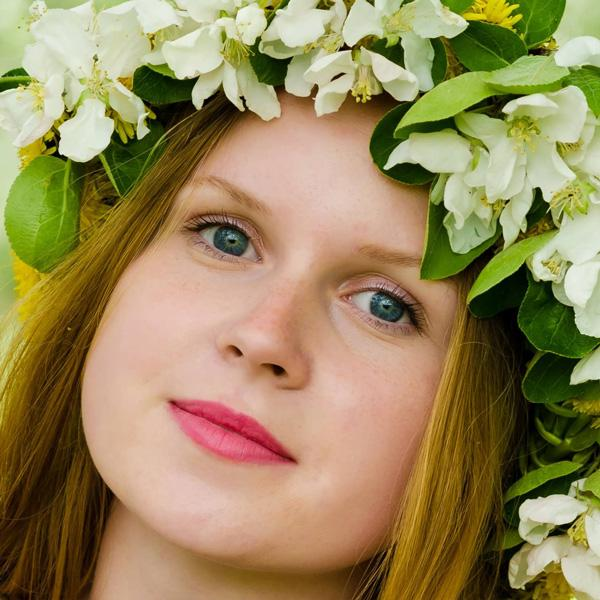Eyes: (326, 265, 434, 345), (175, 202, 270, 272)
